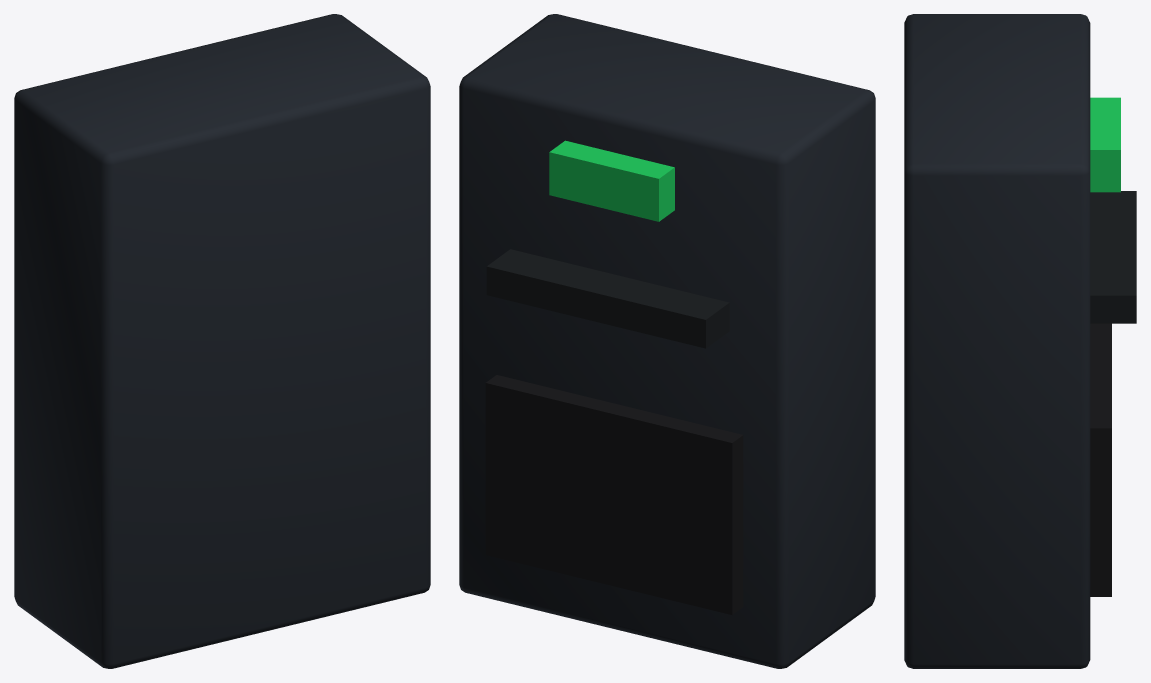
Rendered from hm_bank_card_reader_v2.obj.
The picture shows the model from 3 angles, left to right: view 1: azimuth 30°, elevation 25°; view 2: azimuth 150°, elevation 25°; view 3: azimuth 270°, elevation 25°; orthographic projection. The views are drawn at different scales.
Parts seen in each view (by area): view 1: CR_Body; view 2: CR_Body, CR_Pad, CR_Slot, CR_LED; view 3: CR_Body, CR_Slot, CR_Pad, CR_LED.
Boxes of the visible parts, bbox=[...] form: CR_Body: bbox=[14, 14, 430, 668]; CR_Body: bbox=[459, 14, 875, 668]; CR_Pad: bbox=[485, 375, 743, 614]; CR_Slot: bbox=[486, 249, 729, 348]; CR_LED: bbox=[549, 140, 674, 221]; CR_Body: bbox=[904, 14, 1090, 668]; CR_Slot: bbox=[1090, 191, 1136, 323]; CR_Pad: bbox=[1090, 323, 1111, 596]; CR_LED: bbox=[1090, 97, 1120, 192].
Bounding box in the file's own units: 0.12 × 0.18 × 0.075.
